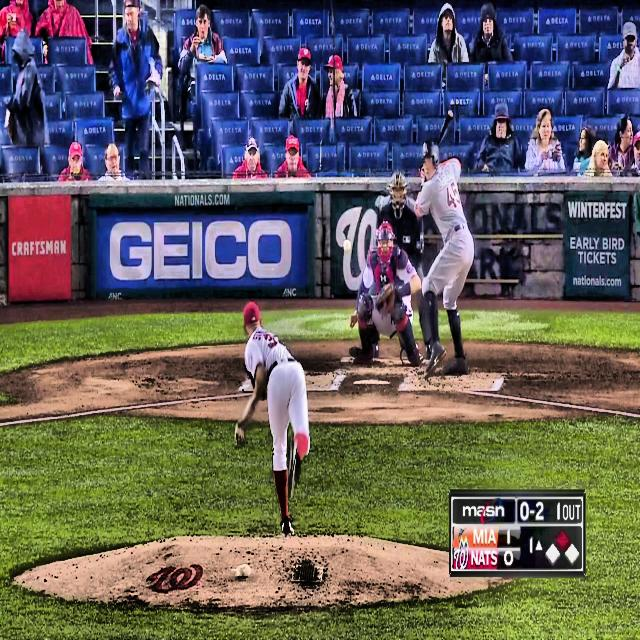baseball: (343, 239, 351, 252)
